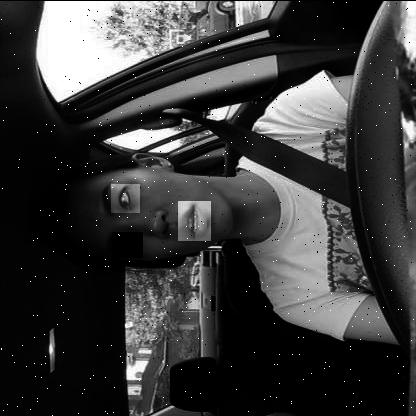seatbelt: (20, 126, 346, 272)
